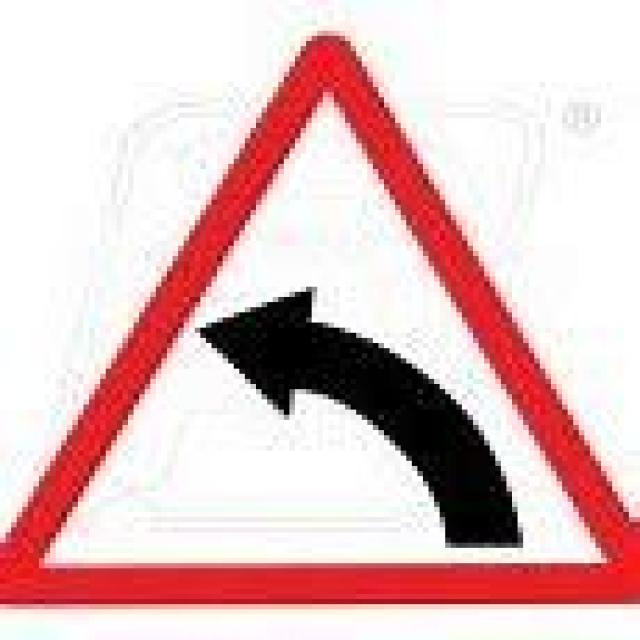LEFT_HAND_CURVE: (0, 33, 640, 605)
